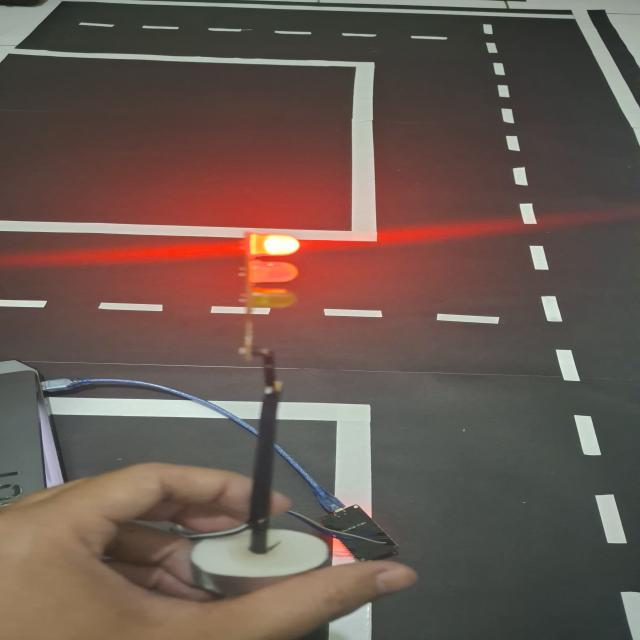Lampu Merah: (242, 231, 302, 311)
